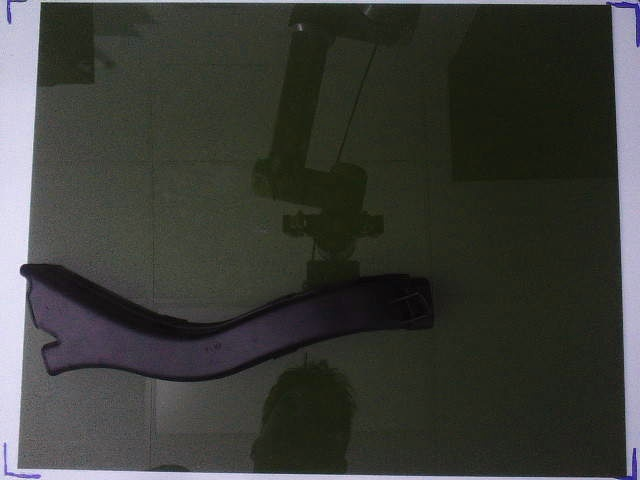887_B-Top: (21, 263, 432, 381)
